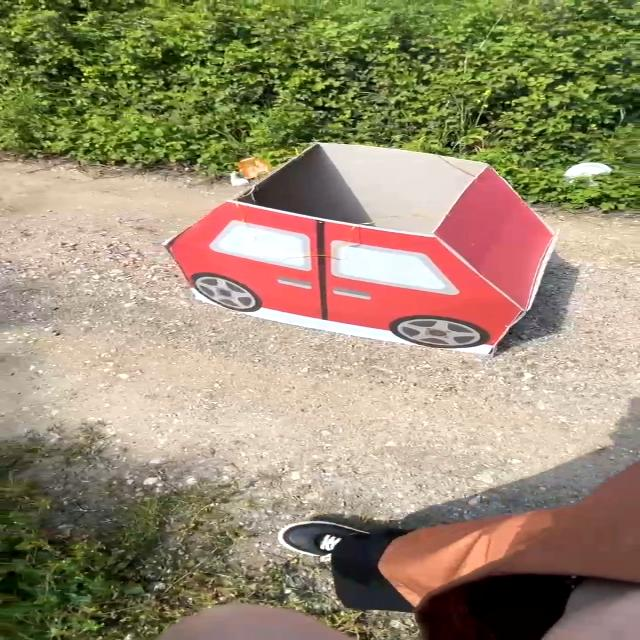red_car: (138, 118, 565, 379)
